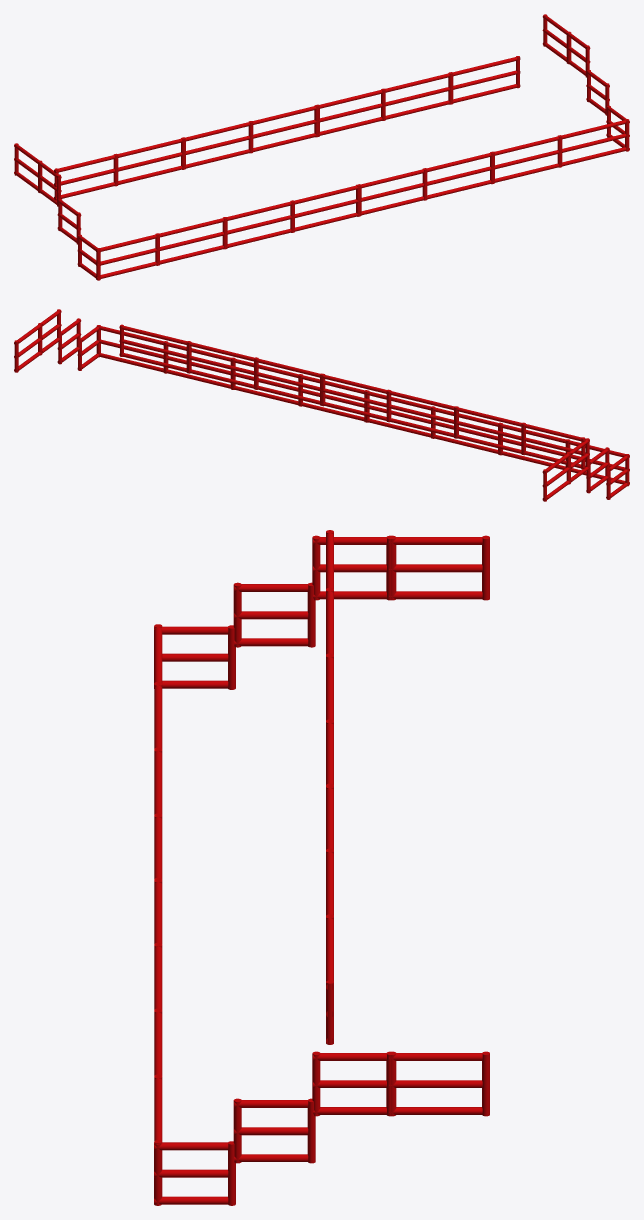
The model's file is railing.obj.
3 renders of one model, top to bottom at view 1: azimuth 30°, elevation 25°; view 2: azimuth 150°, elevation 25°; view 3: azimuth 270°, elevation 25°, orthographic. The views are drawn at different scales.
Visible parts, largest first — view 1: Cylinder.012; view 2: Cylinder.012; view 3: Cylinder.012.
Boxes of the visible parts, left/top/right/bottom form: Cylinder.012: left=14, top=14, right=629, bottom=280; Cylinder.012: left=14, top=309, right=629, bottom=501; Cylinder.012: left=154, top=530, right=489, bottom=1205.
Size of the model in its own units: 48.74 by 6.89 by 13.32.
